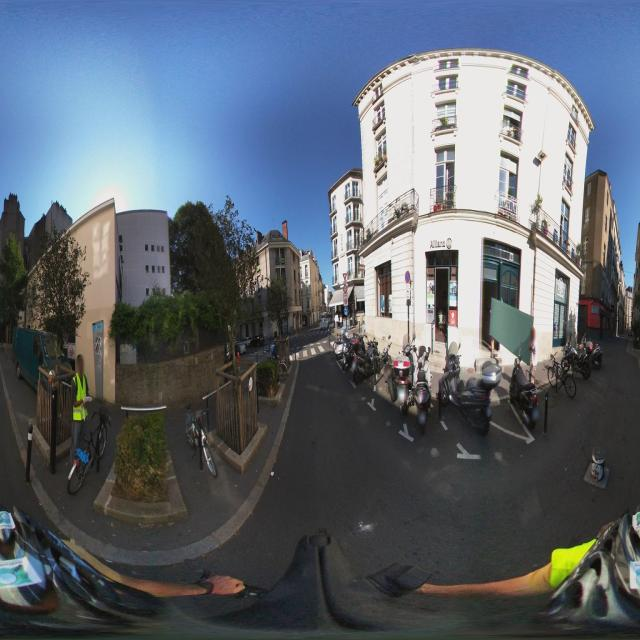forb_stopping: (405, 270, 411, 284), (63, 338, 67, 343)
